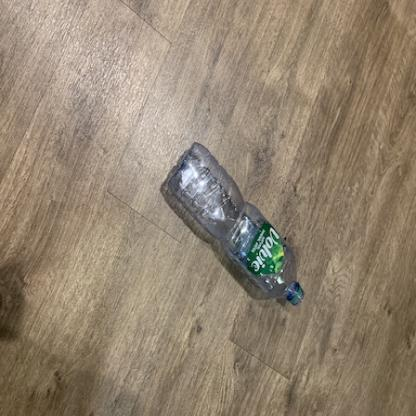trash: (160, 144, 316, 311)
